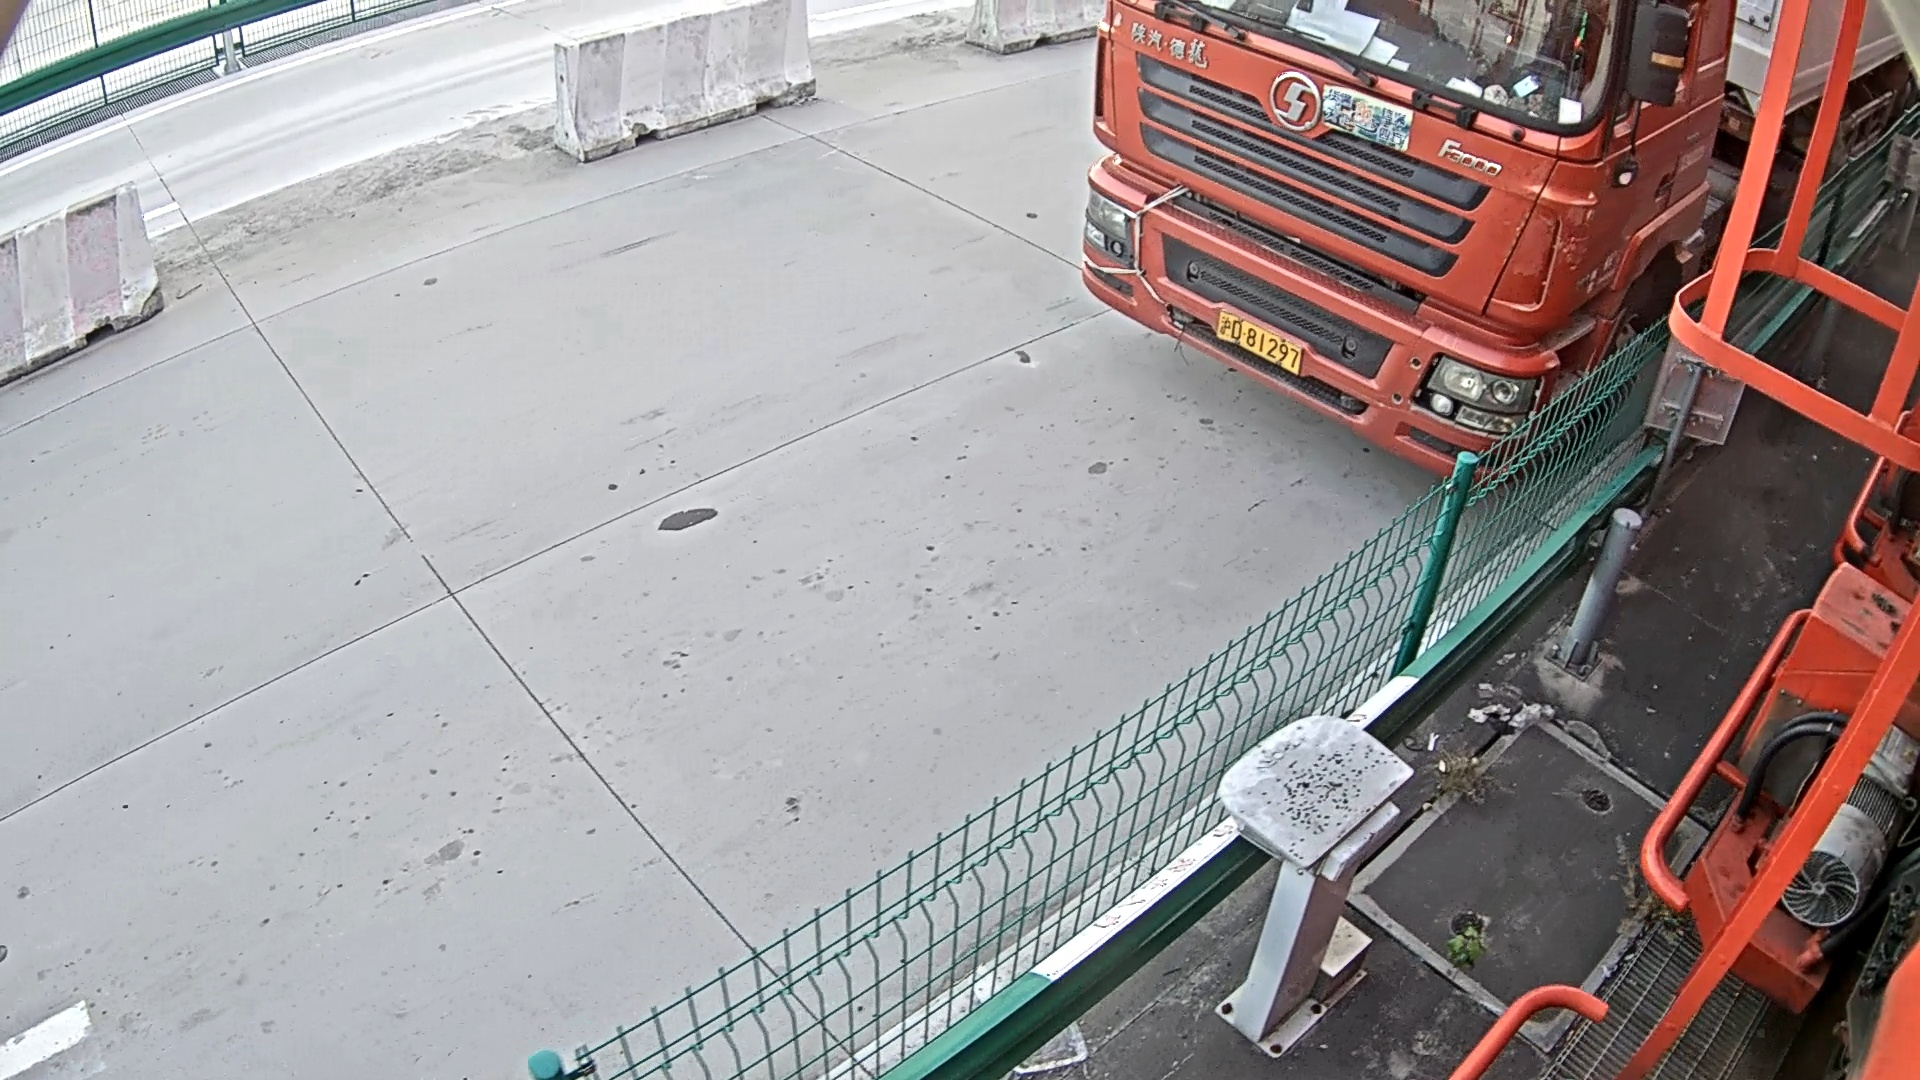head: (1080, 8, 1617, 488)
plate: (1205, 301, 1326, 386)
